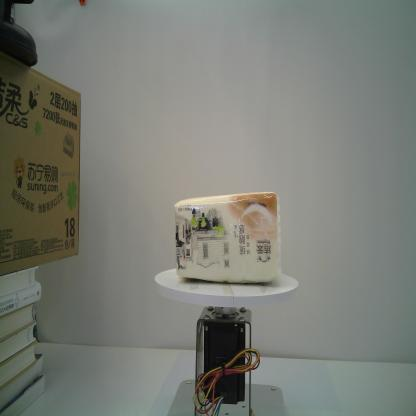Tissue: (173, 190, 283, 286)
